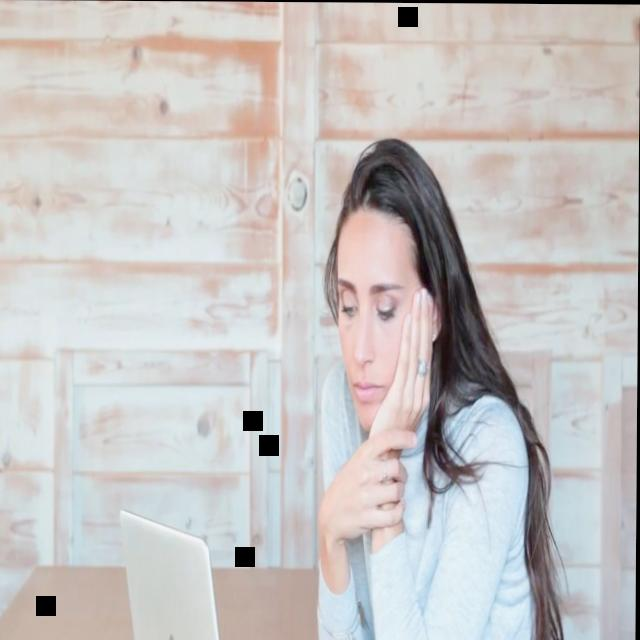NO-Mask: (336, 230, 421, 430)
